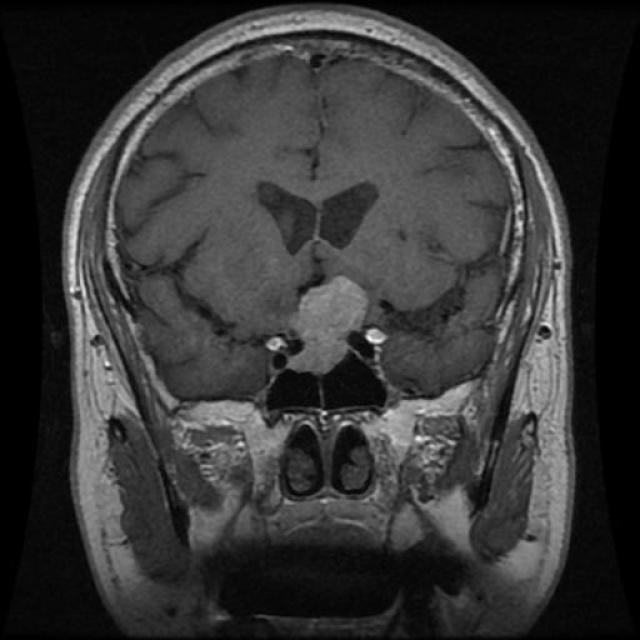pituitary: (263, 268, 386, 376)
